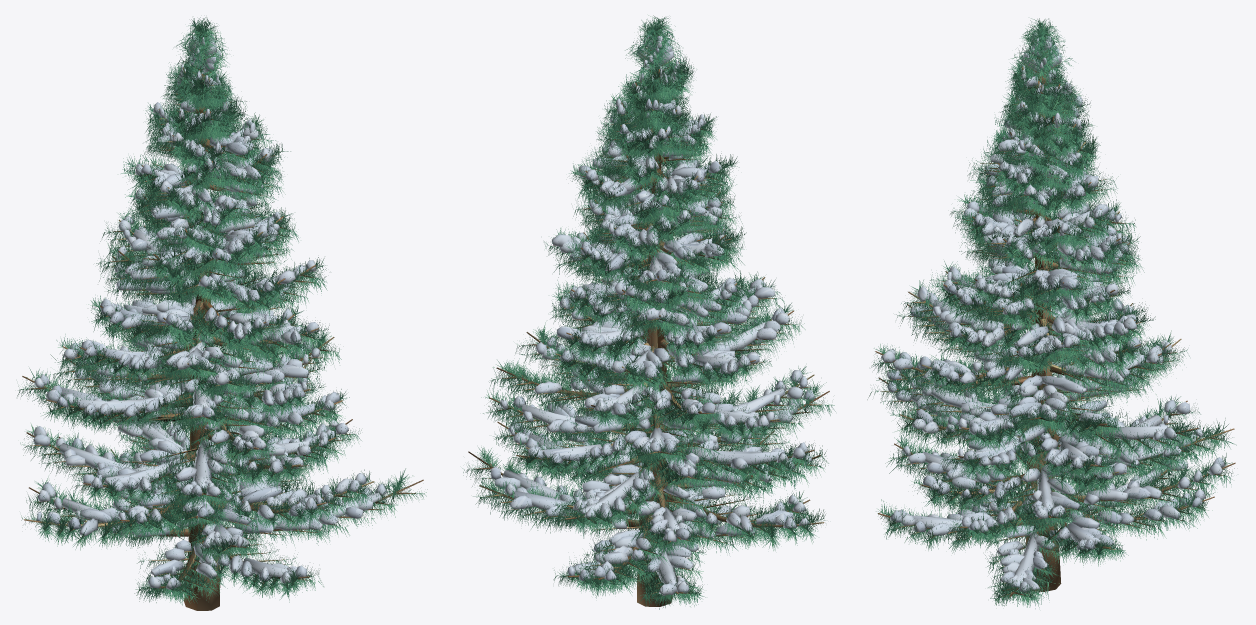
Rendered from snowy-pine-photo-v03.glb.
3 views of the same model, side by side, from view 1: azimuth 30°, elevation 25°; view 2: azimuth 150°, elevation 25°; view 3: azimuth 270°, elevation 25° (orthographic). The views are drawn at different scales.
Visible parts, largest first — view 1: Snowy pine | individual evergreen needles, Snowy pine | uneven snow on branches, Snowy pine | trunk and branching boughs; view 2: Snowy pine | individual evergreen needles, Snowy pine | uneven snow on branches, Snowy pine | trunk and branching boughs; view 3: Snowy pine | individual evergreen needles, Snowy pine | uneven snow on branches, Snowy pine | trunk and branching boughs.
Part boxes in pixels (box(x1,y1,x2,y2)): Snowy pine | individual evergreen needles: box(17, 17, 427, 605); Snowy pine | uneven snow on branches: box(33, 34, 387, 589); Snowy pine | trunk and branching boughs: box(22, 48, 423, 610); Snowy pine | individual evergreen needles: box(462, 15, 835, 609); Snowy pine | uneven snow on branches: box(490, 30, 815, 595); Snowy pine | trunk and branching boughs: box(468, 35, 829, 606); Snowy pine | individual evergreen needles: box(867, 18, 1236, 608); Snowy pine | uneven snow on branches: box(881, 33, 1224, 592); Snowy pine | trunk and branching boughs: box(875, 50, 1235, 597).
Size of the model in its own units: 5.54 by 8.2 by 4.92.
6 materials, 6 textured.
